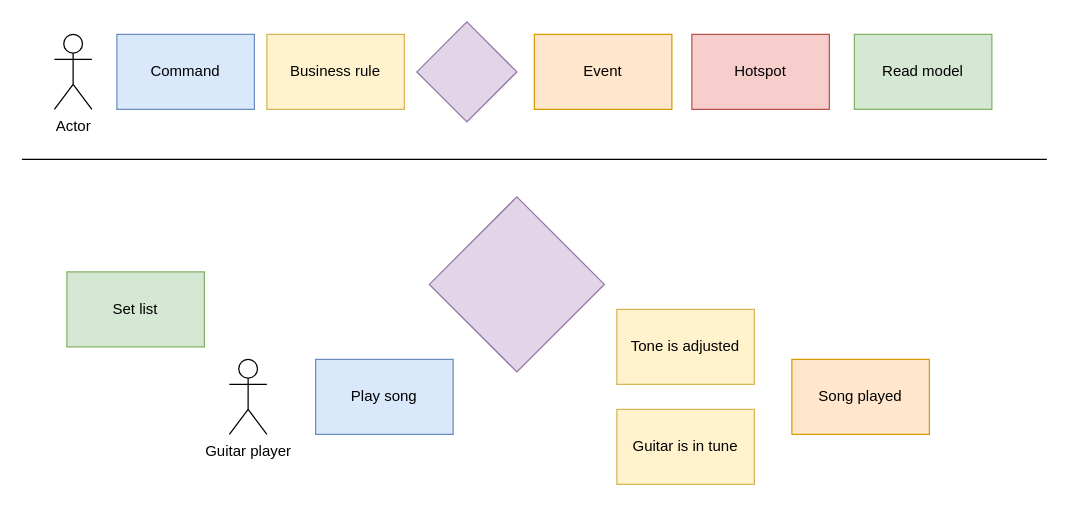
The diagram is 1070 pixels wide and 506 high, and some of its shapes have lost their labels. Here are the shapes that lost their labels. From the top down, the centre of each, then its label:
[466,71]: Policy
[516,284]: Band's specific tone requirements
